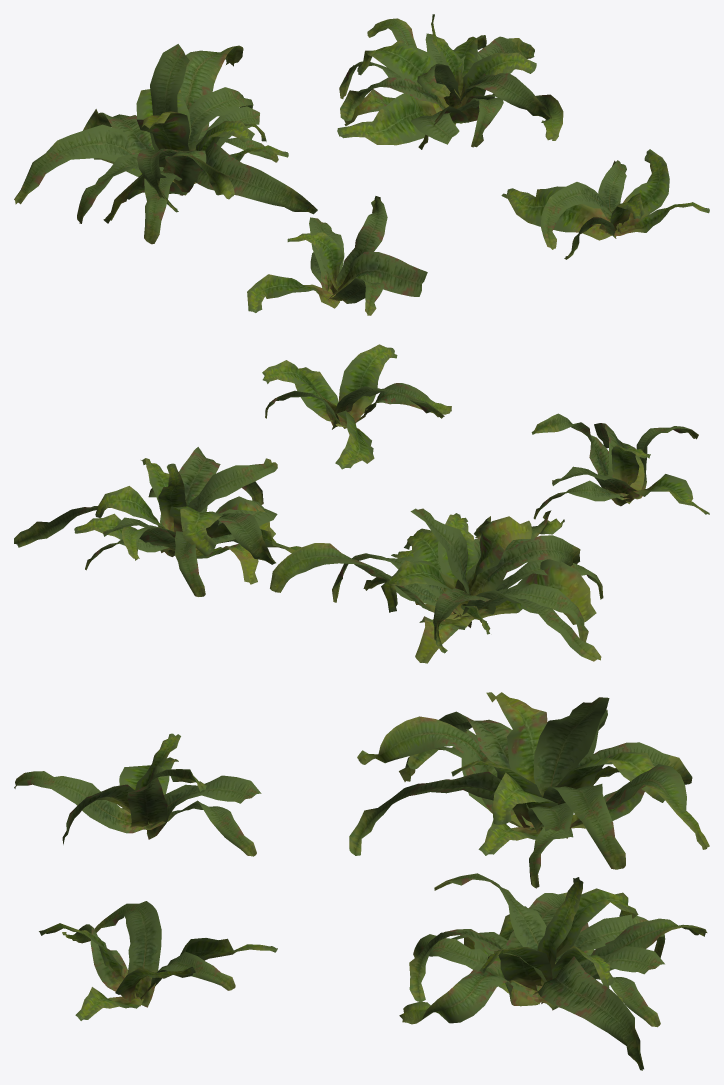
Rendered from fern_02.glb.
3 renders of one model, top to bottom at view 1: azimuth 30°, elevation 25°; view 2: azimuth 150°, elevation 25°; view 3: azimuth 270°, elevation 25°, orthographic. The views are drawn at different scales.
Parts seen in each view (by area): view 1: fern_02_b, fern_02_c, fern_02_d, fern_02_a; view 2: fern_02_b, fern_02_c, fern_02_d, fern_02_a; view 3: fern_02_b, fern_02_c, fern_02_a, fern_02_d.
Boxes of the visible parts, box(x1,y1,x2,y2) form: fern_02_b: box(14, 44, 317, 244); fern_02_c: box(337, 14, 563, 149); fern_02_d: box(501, 149, 709, 259); fern_02_a: box(247, 196, 427, 315); fern_02_b: box(270, 508, 603, 663); fern_02_c: box(14, 447, 300, 596); fern_02_d: box(262, 344, 451, 469); fern_02_a: box(531, 413, 709, 519); fern_02_b: box(349, 692, 709, 888); fern_02_c: box(399, 873, 707, 1070); fern_02_a: box(14, 733, 261, 856); fern_02_d: box(39, 901, 277, 1020).
Bounding box in the file's own units: 1.97 × 0.4277 × 1.72.
1 material, 1 textured.
